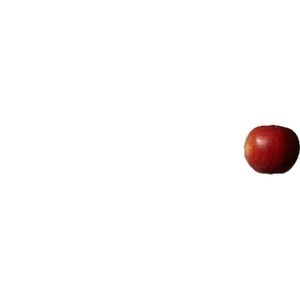maçã braeburn: (242, 123, 297, 176)
